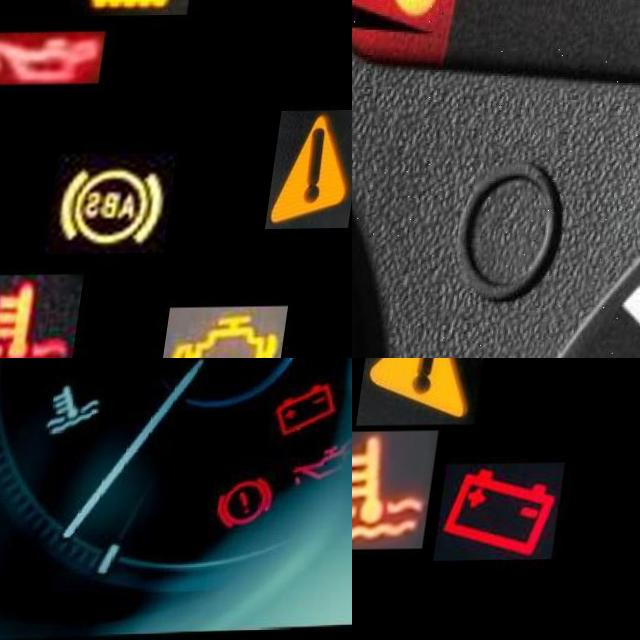Central Warning lamp: (275, 111, 352, 230), (367, 358, 498, 426)
Engine cooling system: (352, 431, 450, 551), (0, 274, 95, 358)
High Engine Coolant Temperature: (58, 380, 120, 434)
